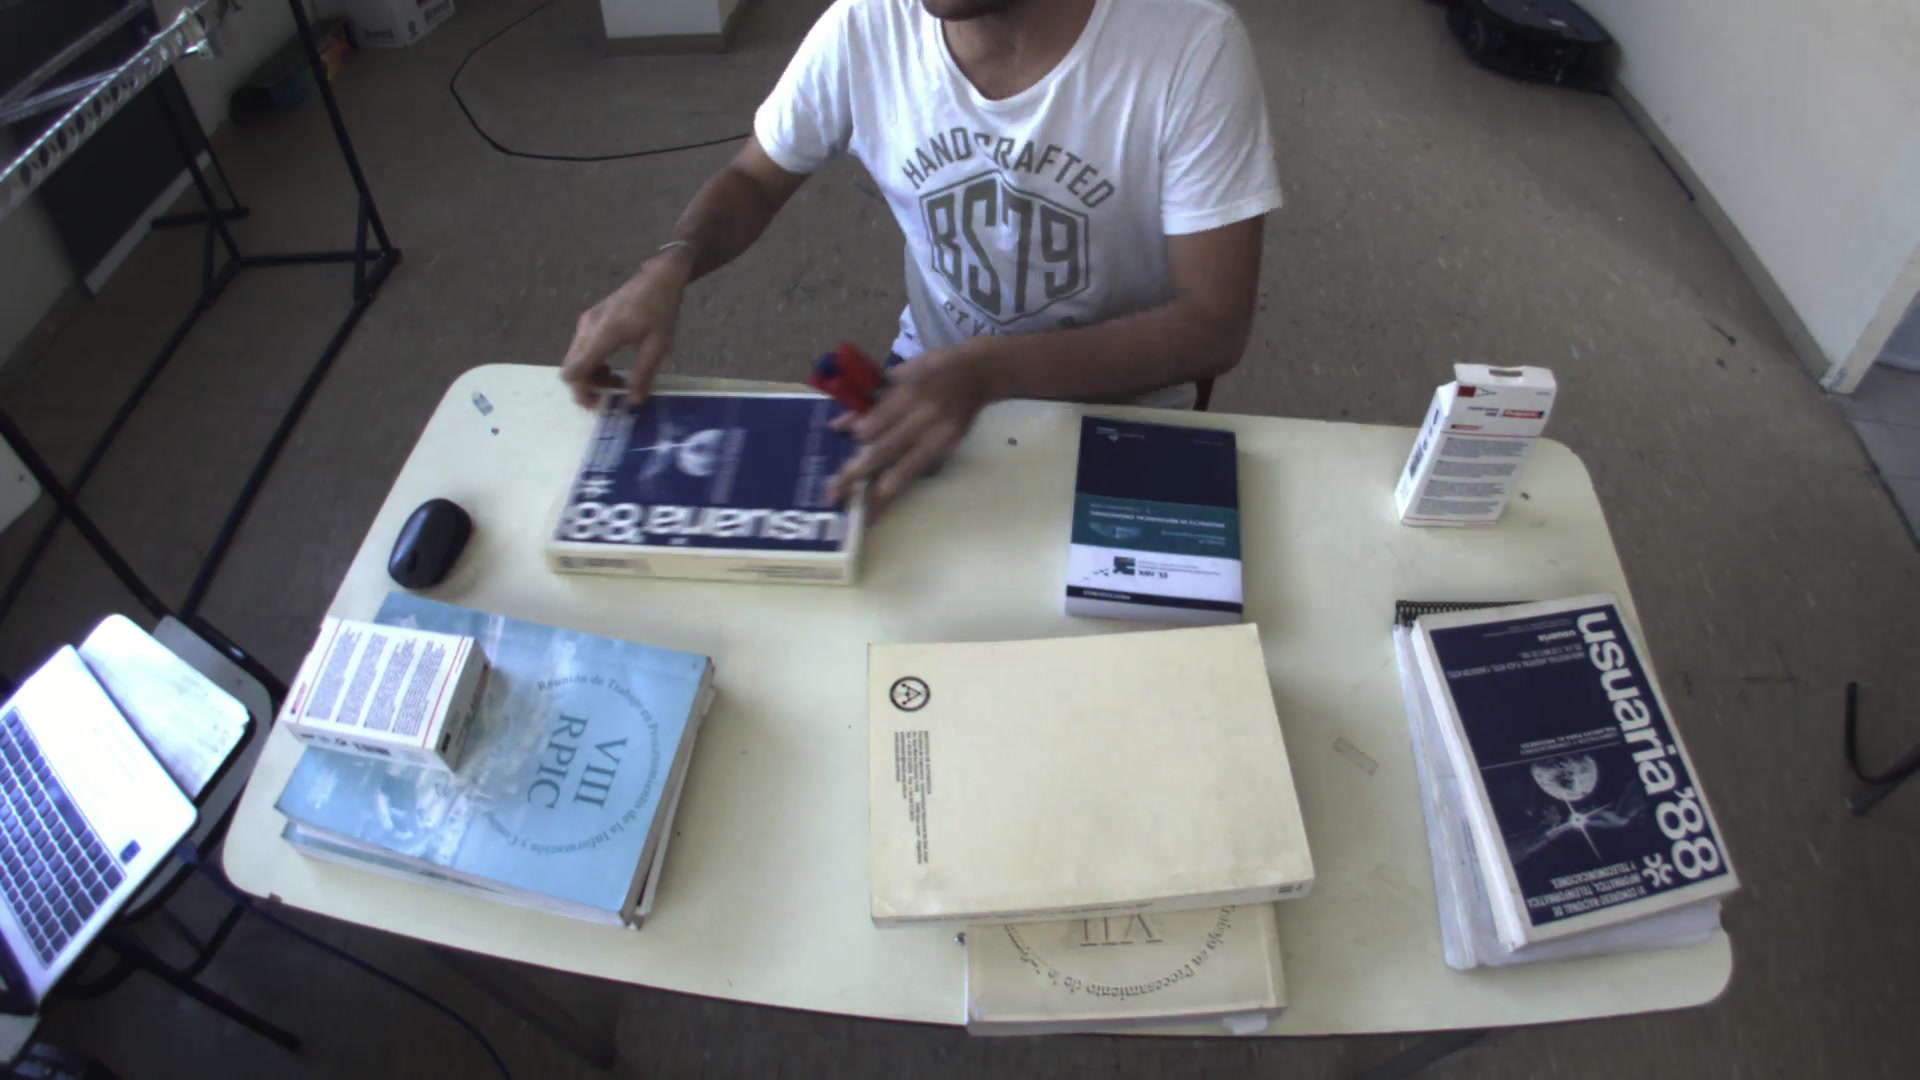hand: (806, 334, 984, 514), (546, 239, 698, 414)
